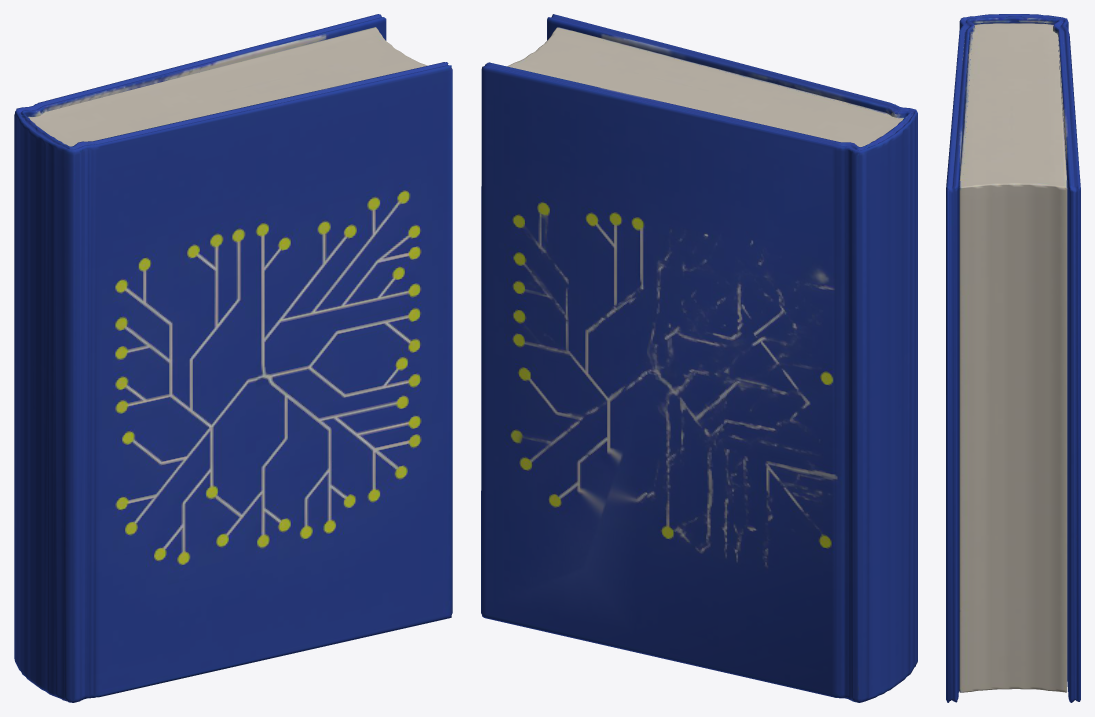
The model's file is working-in-public.glb.
3 renders of one model, left to right at view 1: azimuth 30°, elevation 25°; view 2: azimuth 150°, elevation 25°; view 3: azimuth 270°, elevation 25°, orthographic. The views are drawn at different scales.
Visible parts, largest first — view 1: Working in Public; view 2: Working in Public; view 3: Working in Public.
Boxes of the visible parts, x1,y1,x2,y2 form: Working in Public: (14, 14, 452, 702); Working in Public: (481, 14, 917, 702); Working in Public: (946, 14, 1080, 702).
Size of the model in its own units: 0.7246 by 0.998 by 0.2363.
Materials: 1 (1 with a texture image).
